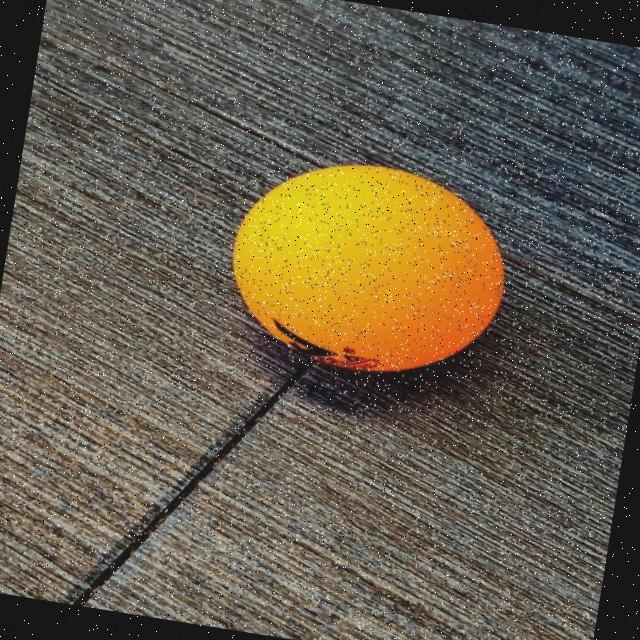ping-pong-ball: (196, 132, 542, 424)
